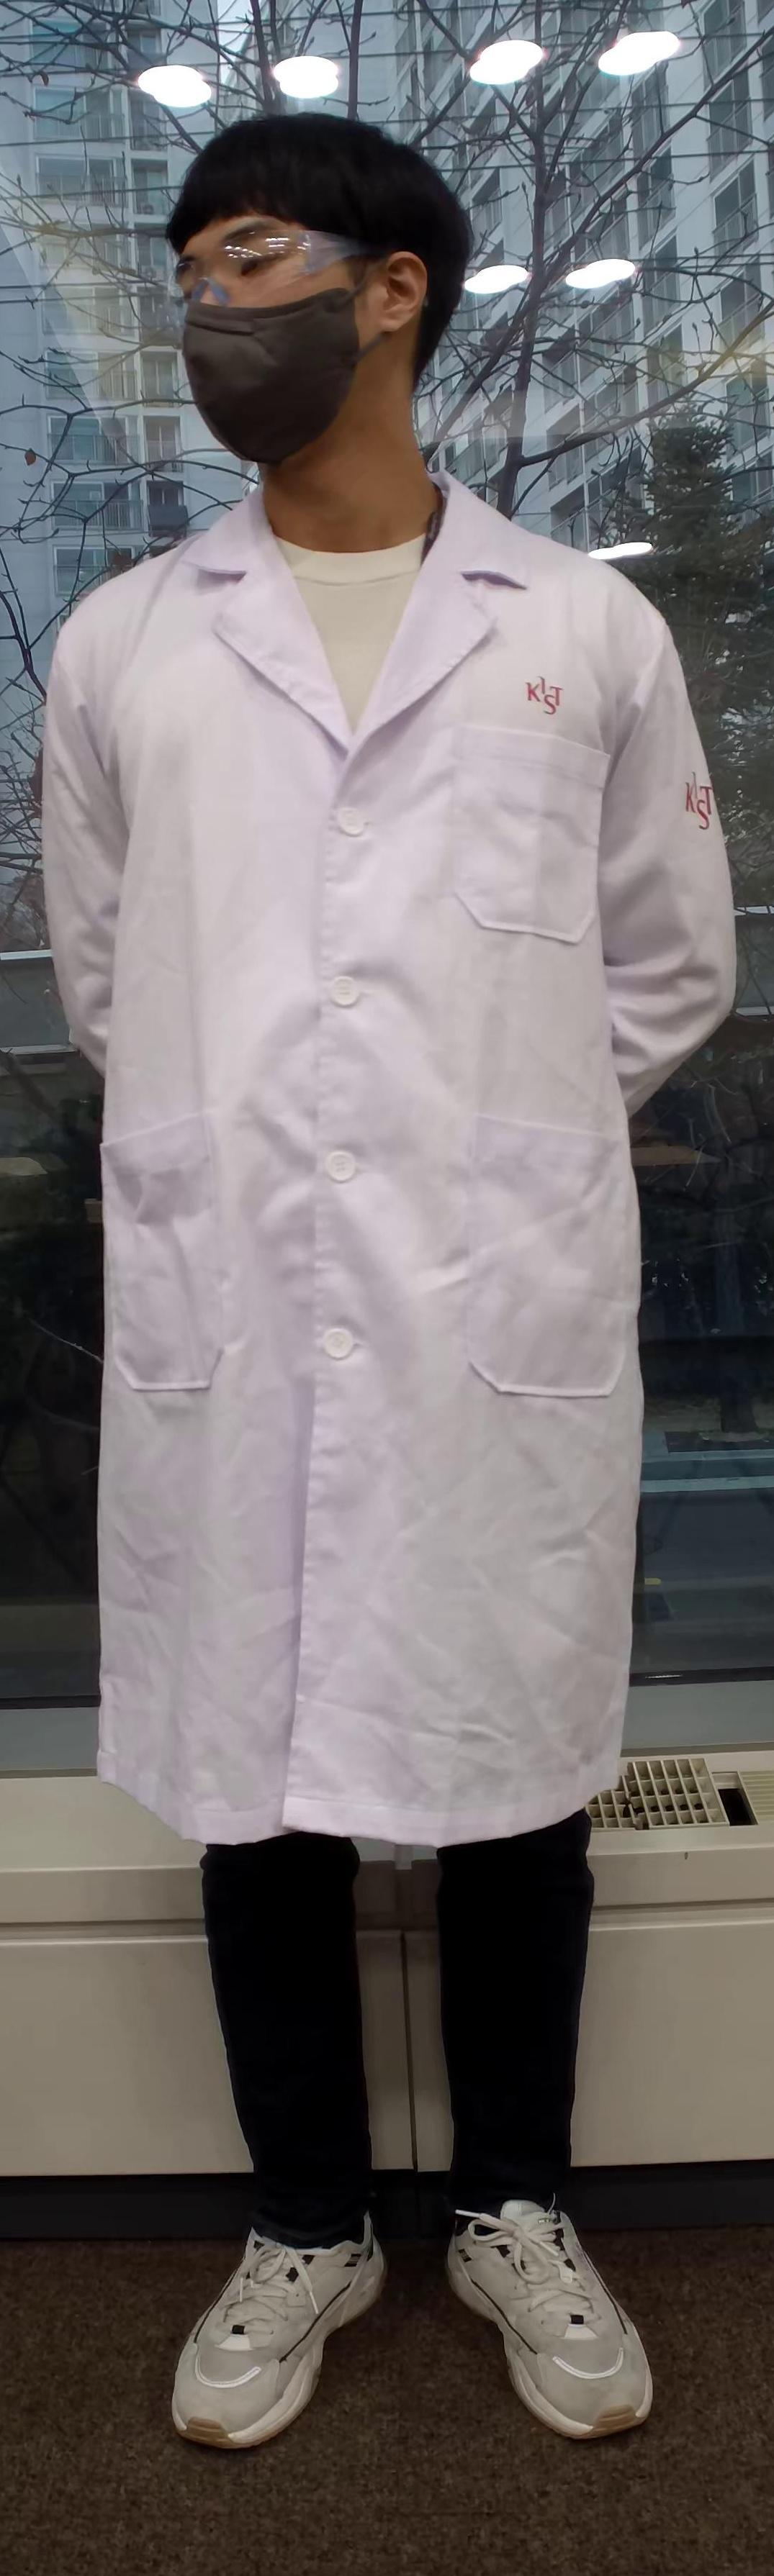lab_coat: (30, 540, 720, 1796)
